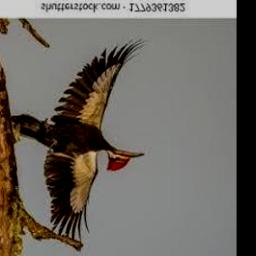Woodpecker: (9, 37, 148, 242)
